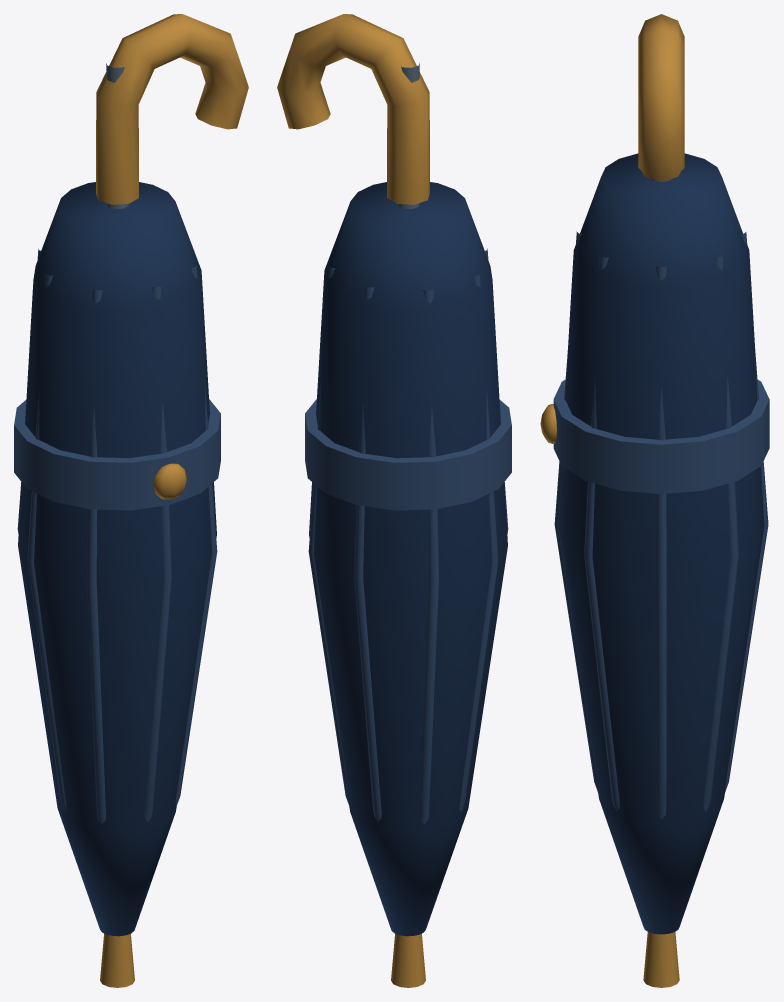
The model's file is umbrella_closed.glb.
3 renders of one model, left to right at view 1: azimuth 30°, elevation 25°; view 2: azimuth 150°, elevation 25°; view 3: azimuth 270°, elevation 25°, orthographic. The views are drawn at different scales.
Parts seen in each view (by area): view 1: umbrella_closed_Palette; view 2: umbrella_closed_Palette; view 3: umbrella_closed_Palette.
Part boxes in pixels (bbox=[...]): umbrella_closed_Palette: bbox=[14, 14, 248, 987]; umbrella_closed_Palette: bbox=[277, 14, 511, 987]; umbrella_closed_Palette: bbox=[540, 14, 769, 987].
Bounding box in the file's own units: 0.26 × 1.08 × 0.227.
